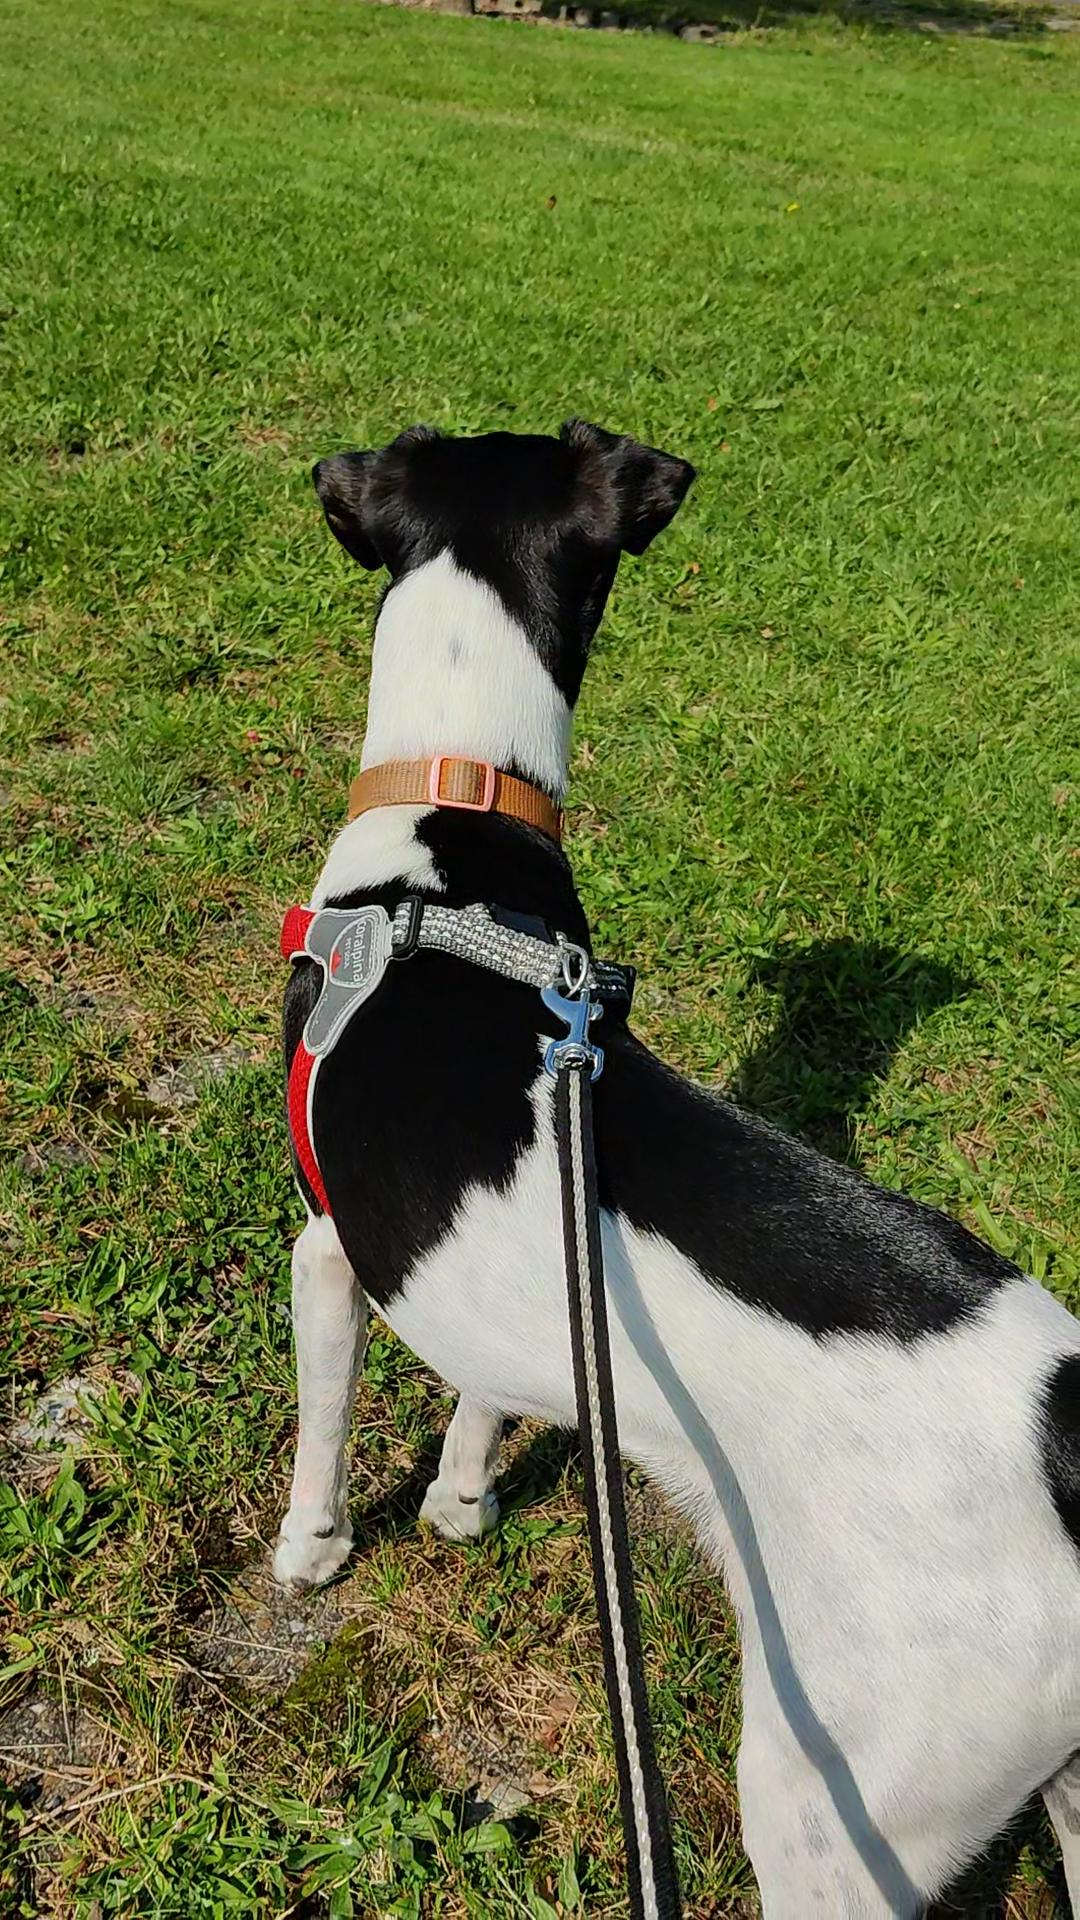Dog: (204, 392, 1079, 1919)
